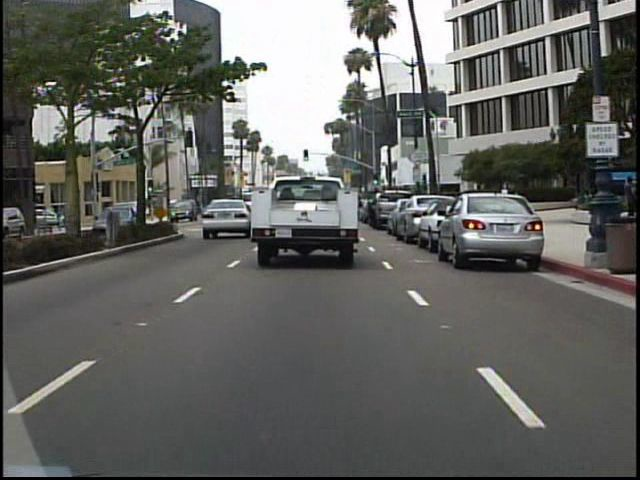person: (620, 173, 638, 215)
